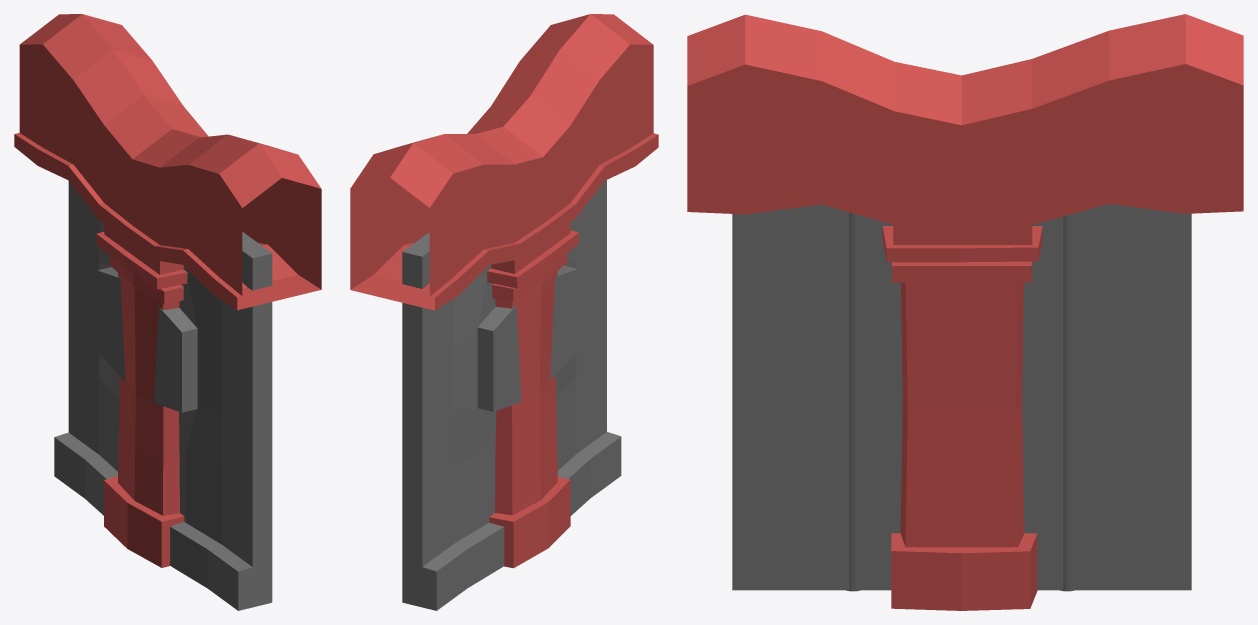
Rendered from Arch3.fbx.
3 views of the same model, side by side, from view 1: azimuth 30°, elevation 25°; view 2: azimuth 150°, elevation 25°; view 3: azimuth 270°, elevation 25° (orthographic). The views are drawn at different scales.
Parts seen in each view (by area): view 1: Plane002.001, Box002; view 2: Plane002.001, Box002; view 3: Plane002.001, Box002, Cylinder.
Part boxes in pixels (x1,y1,x2,y2): Plane002.001: (14, 14, 321, 567); Box002: (54, 181, 272, 610); Plane002.001: (350, 14, 658, 568); Box002: (402, 180, 621, 610); Plane002.001: (687, 14, 1243, 610); Box002: (732, 204, 1191, 590); Cylinder: (846, 212, 1074, 591).
Size of the model in its own units: 215 by 1034 by 911.
